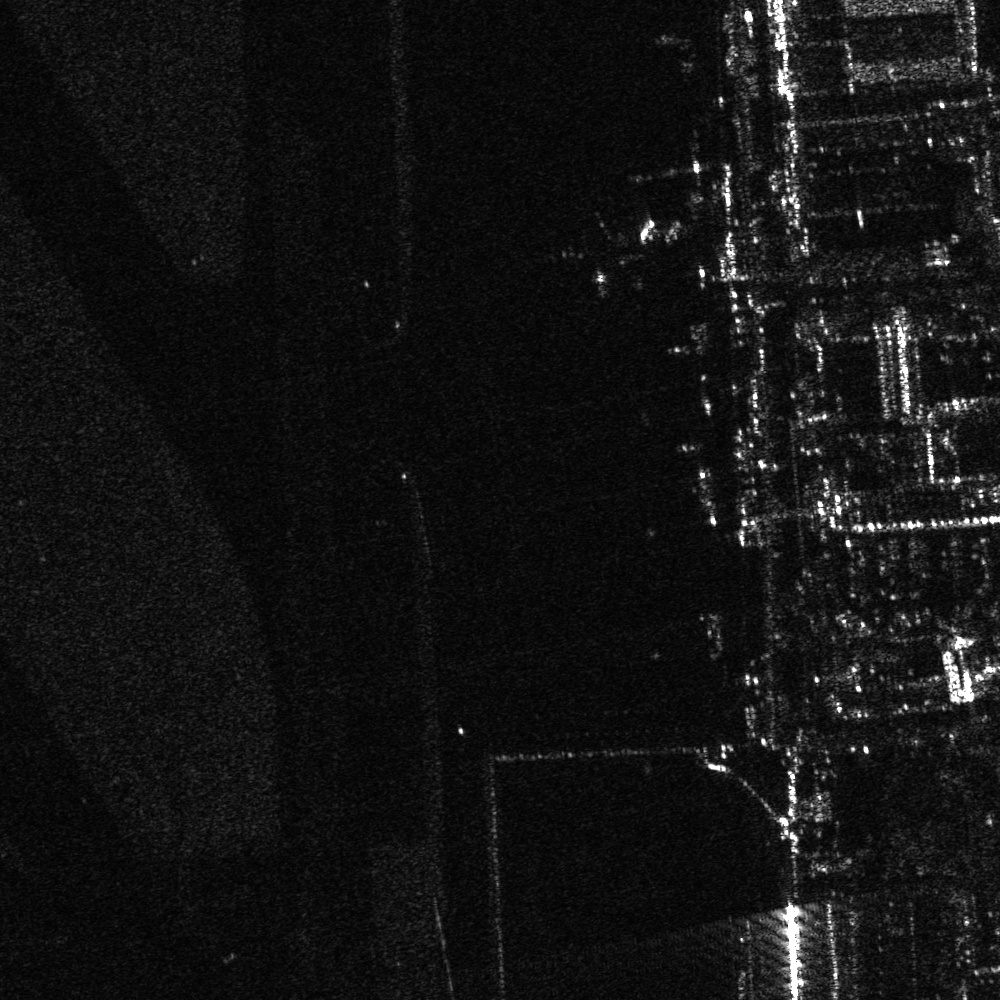A220: (542, 200, 688, 300)
